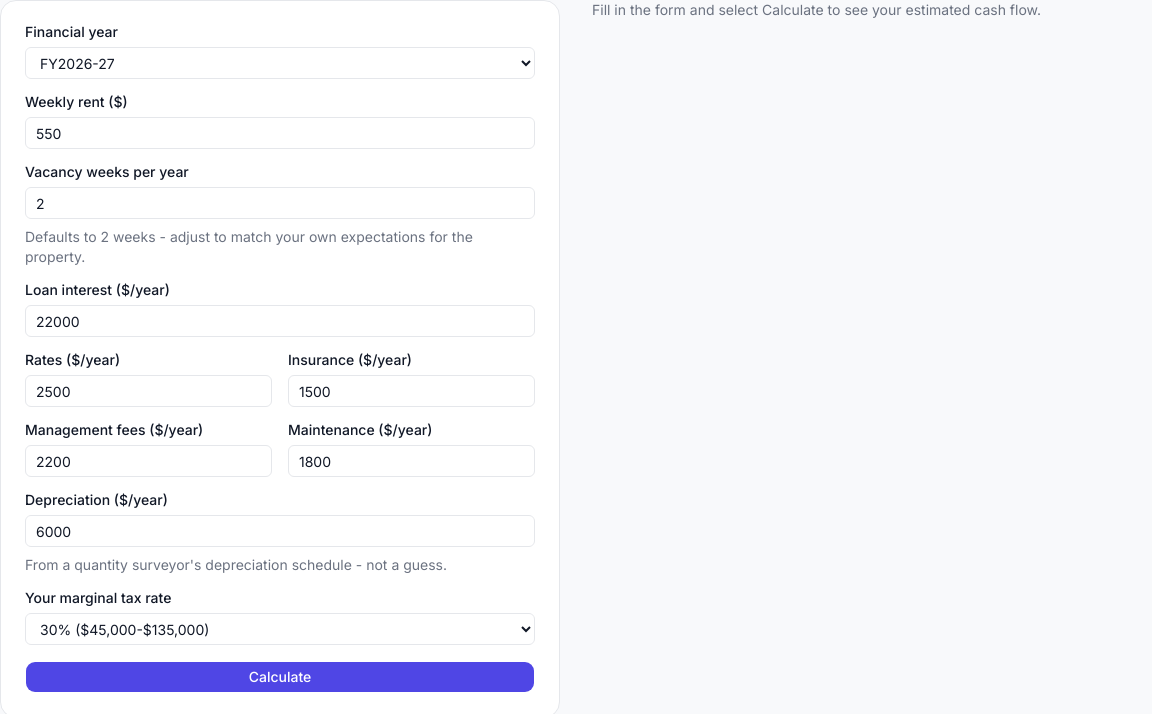
Scenario: PropertyCashFlowCalculator › integration: switching the FY selector swaps the config and badge, and relabels the second bracket's marginal-rate option
The image size is (1152, 714).
Select "FY2025-26" in the dropdown labelled "Financial year": {"x": 280, "y": 63} [25,47,535,79]
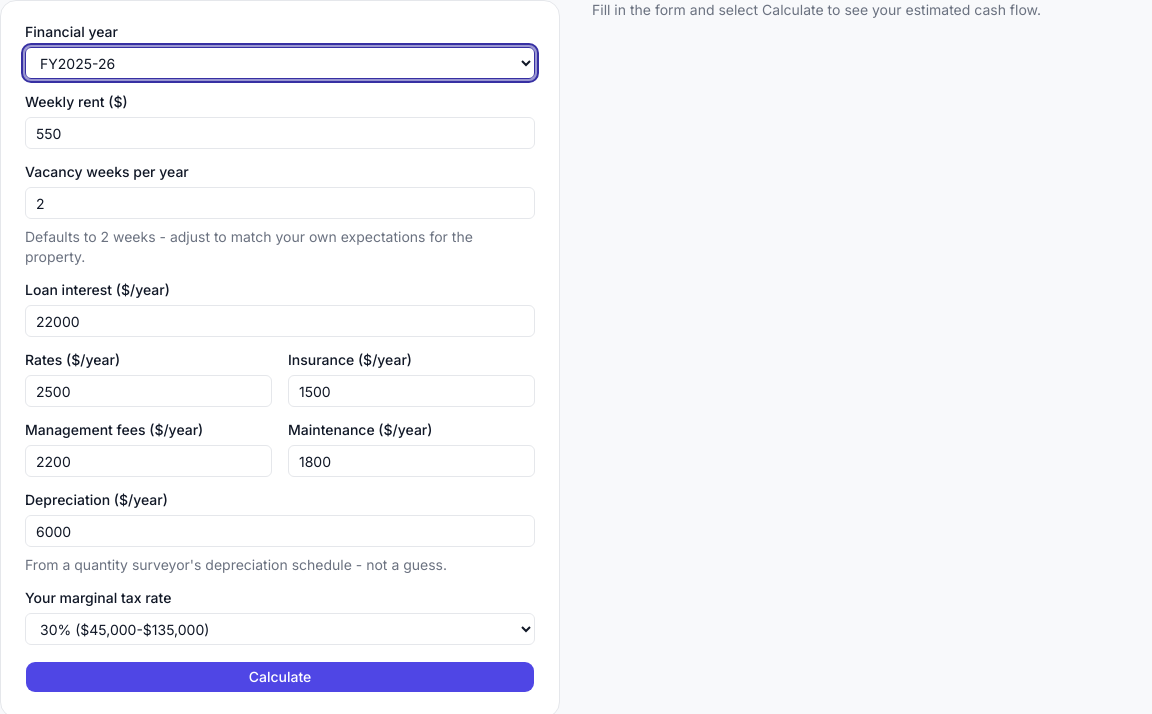
Click the button "Calculate": {"x": 280, "y": 677} [25,661,535,693]
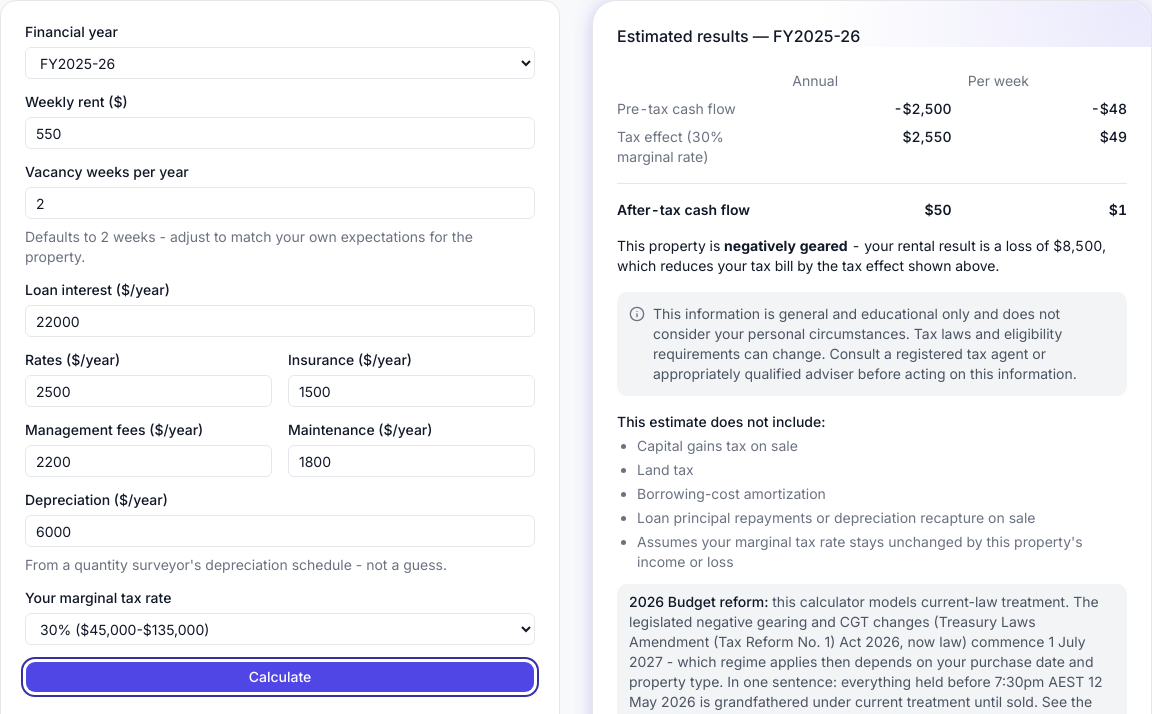
Expected: the text "Estimated results — FY2025-26" is shown, [617,26,860,46]
